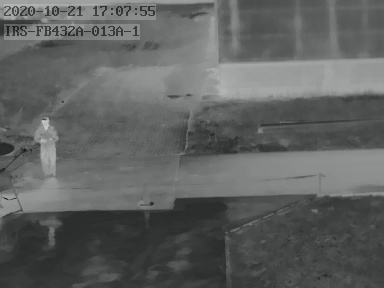person: (34, 114, 63, 178)
